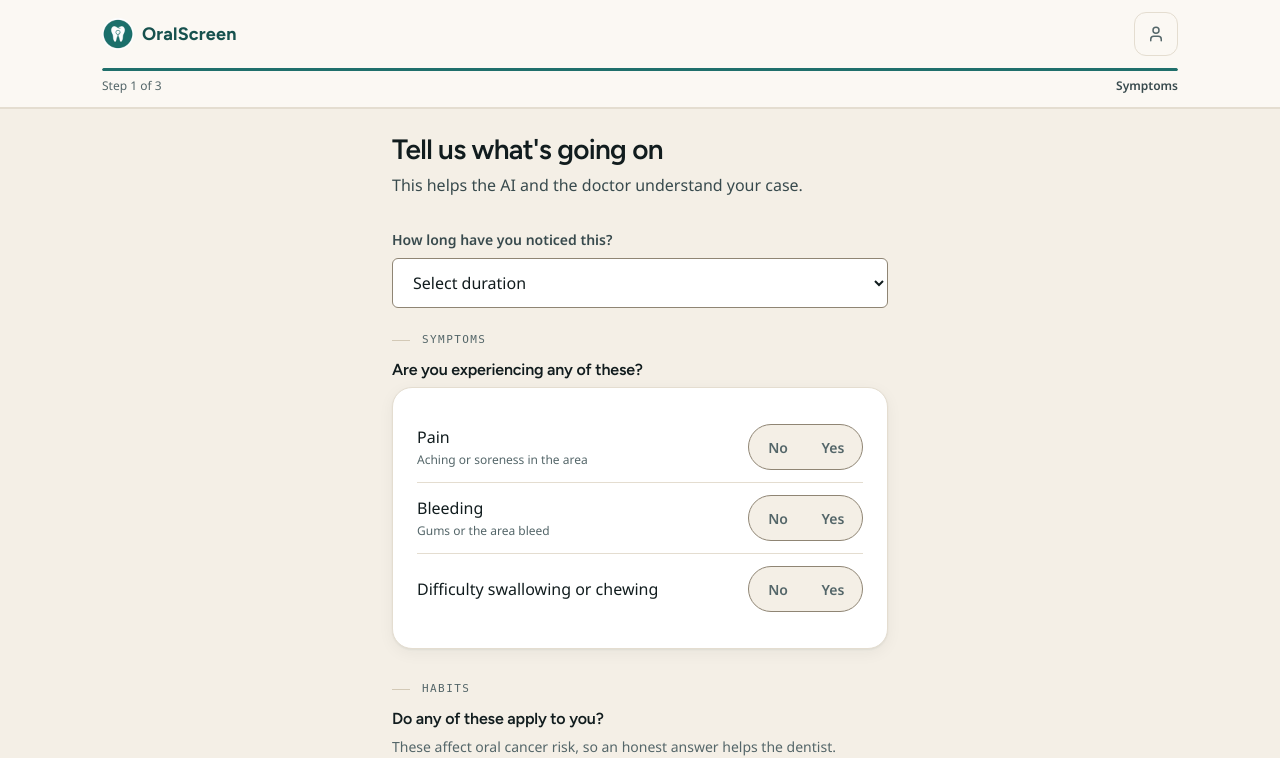
Test: completeness gating › counts down the remaining questions, singular at one
This screenshot has width=1280, height=758.
Select "3–5 days" in the dropdown labelled "How long have you noticed this?" at (640, 283), box [392,258,888,308]
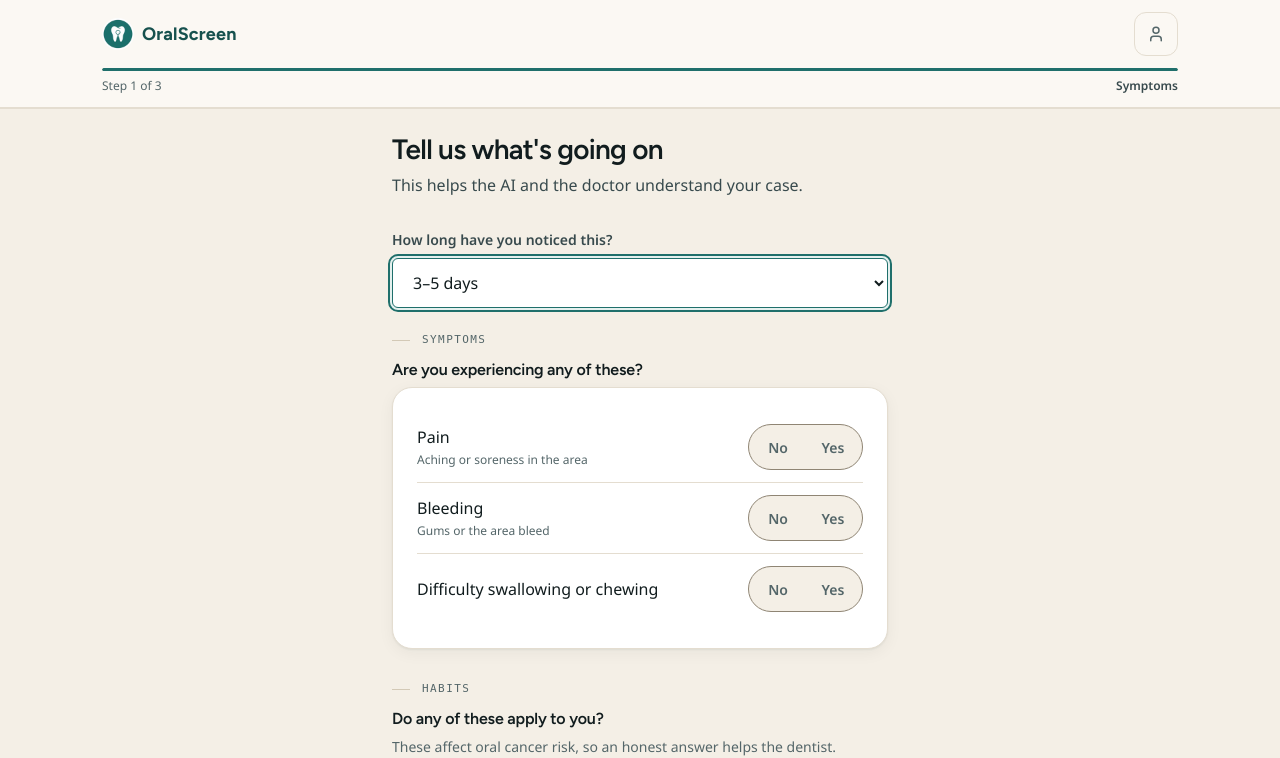
Click the button "No" in the row of "Aching or soreness in the area" at (778, 447), box [752,428,804,466]
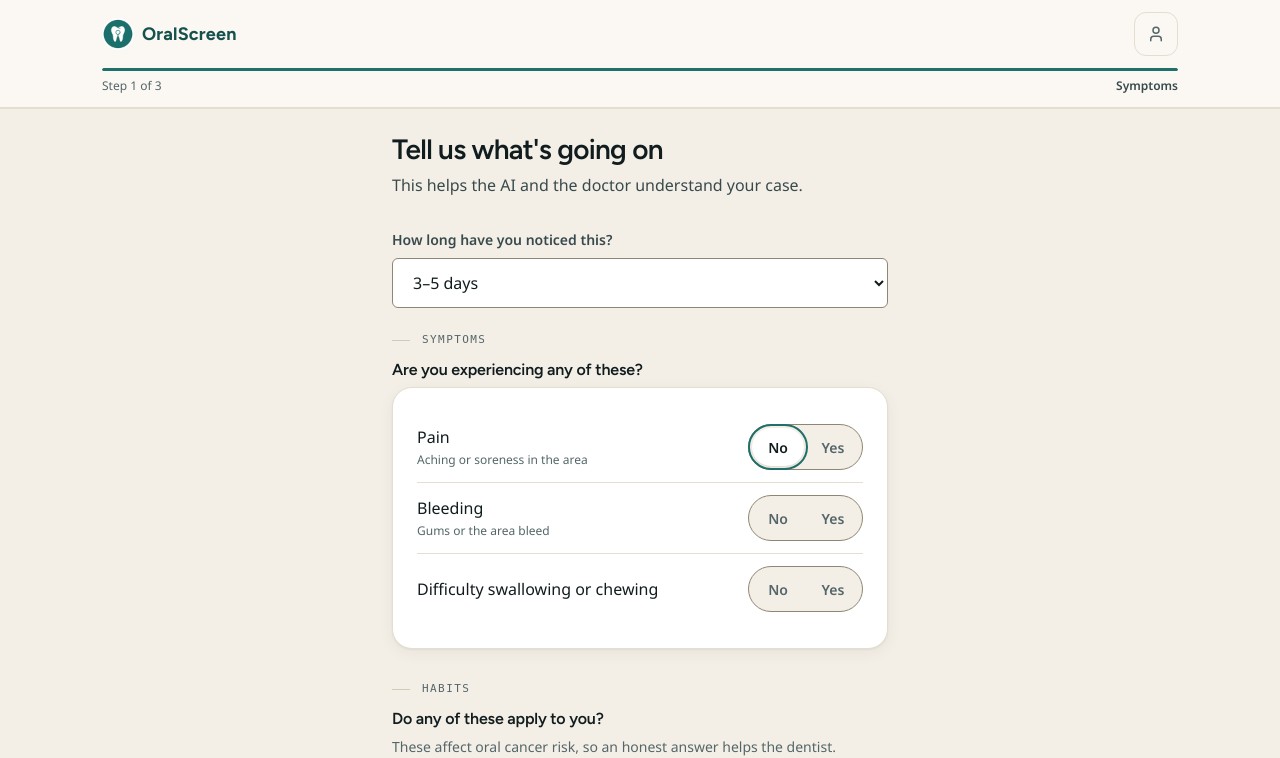
Click the button "No" in the row of "Gums or the area bleed" at (778, 518), box [752,499,804,537]
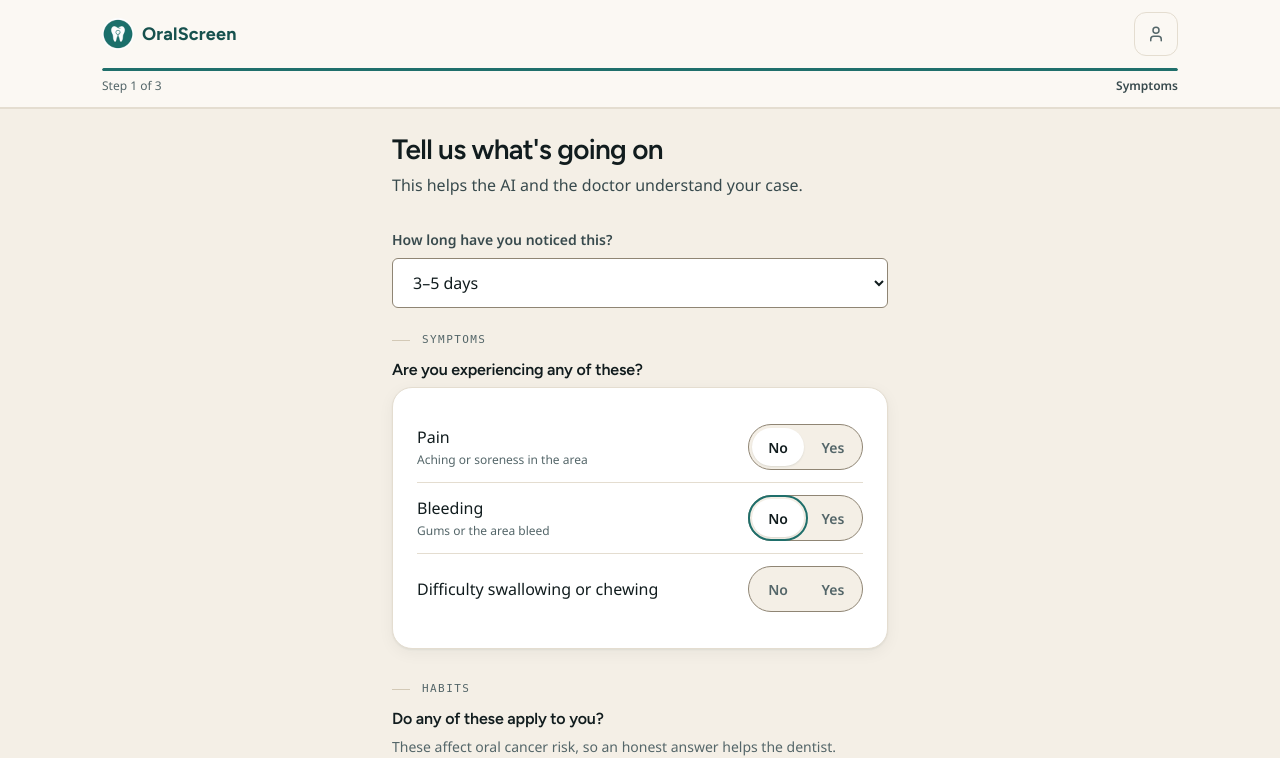
Click the button "No" next to "Difficulty swallowing or chewing" at (778, 589), box [752,570,804,608]
(page scrolled)
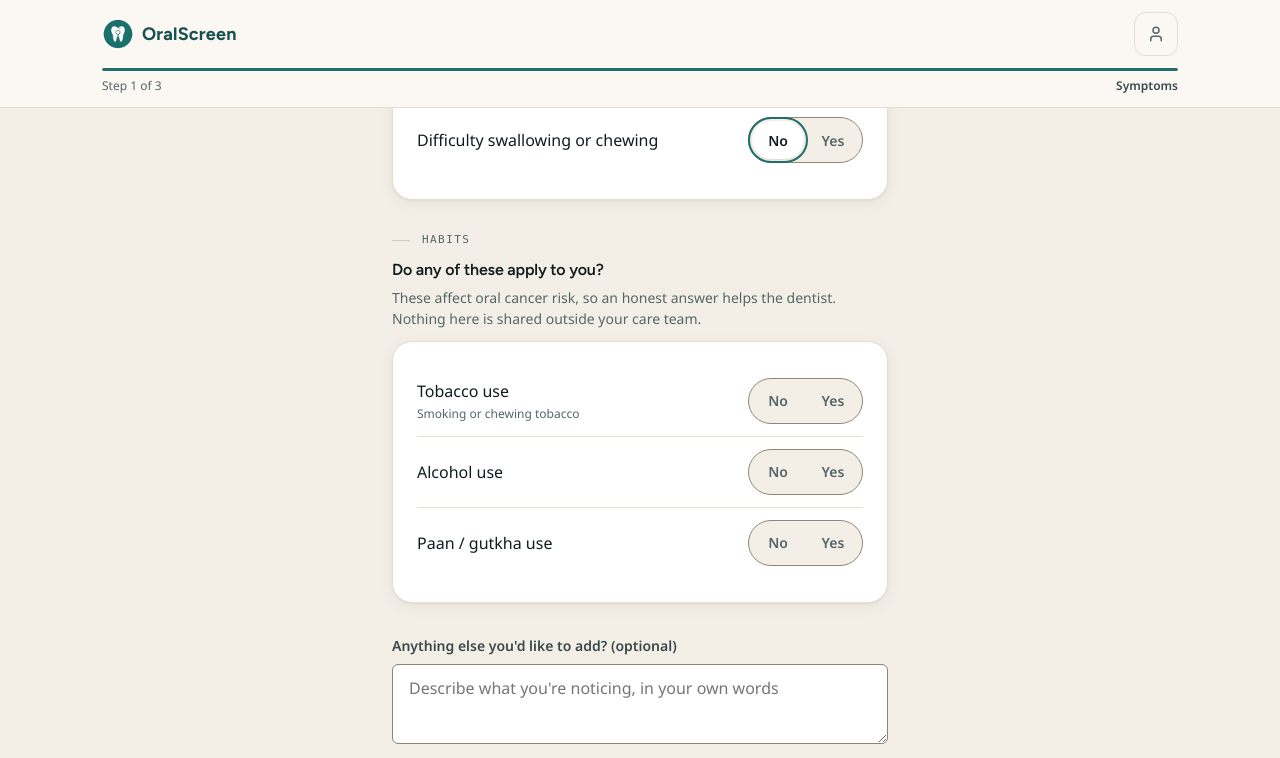
Click the button "No" in the row of "Smoking or chewing tobacco" at (778, 401), box [752,382,804,420]
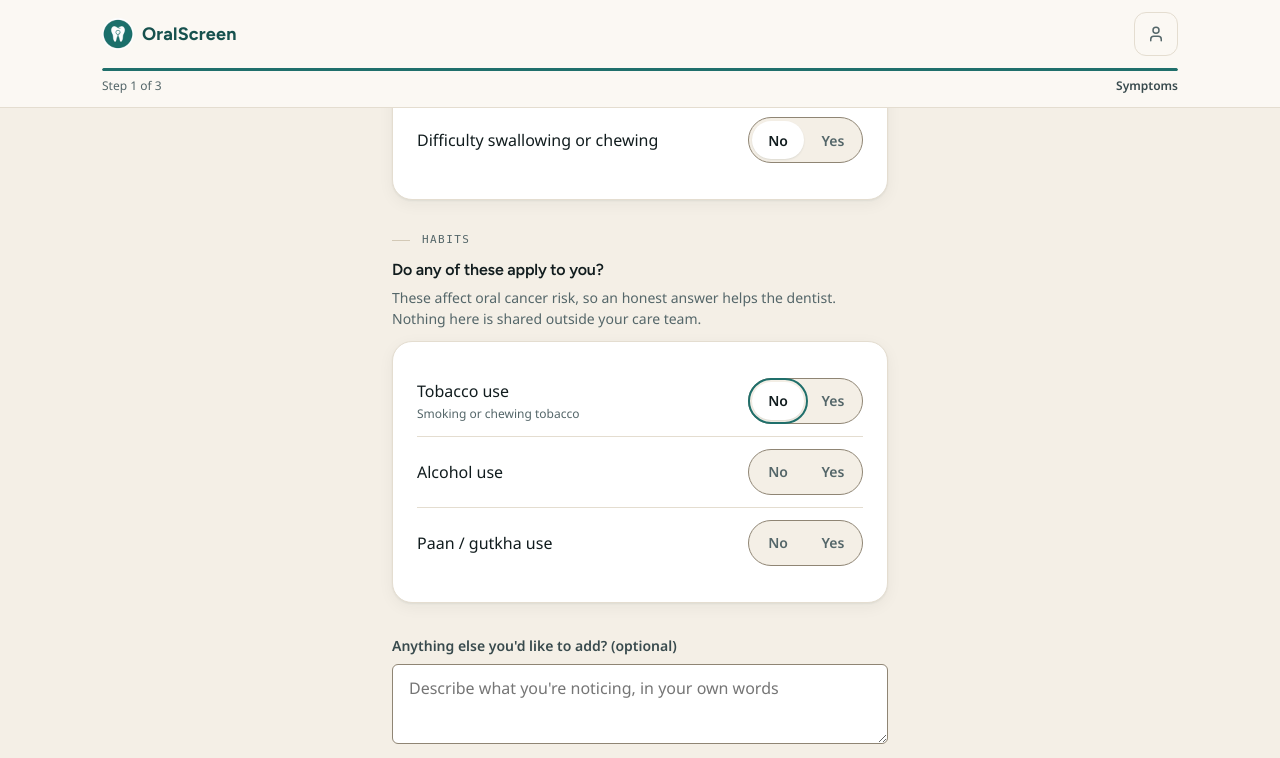
Click the button "No" in the row of "Alcohol use" at (778, 472), box [752,453,804,491]
(page scrolled)
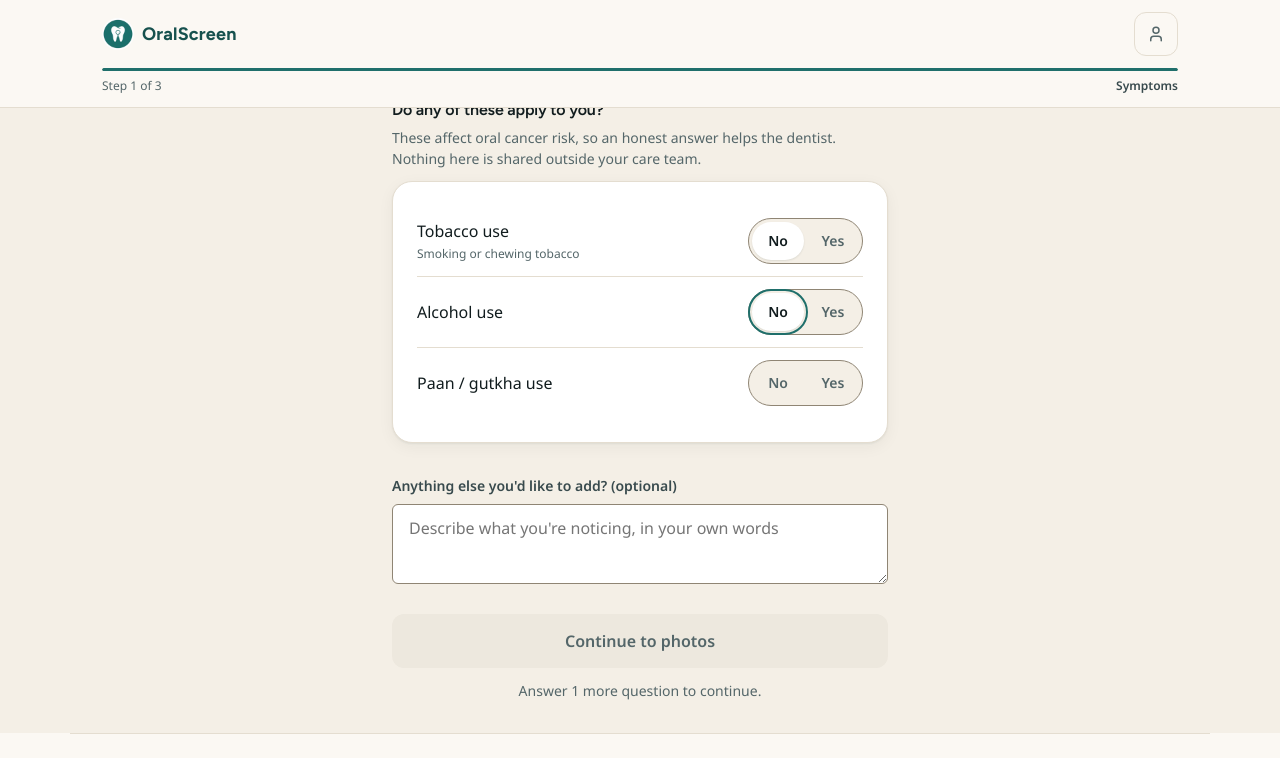
Check: the message reads "Answer 1 more question to continue.", box [519,681,761,700]
